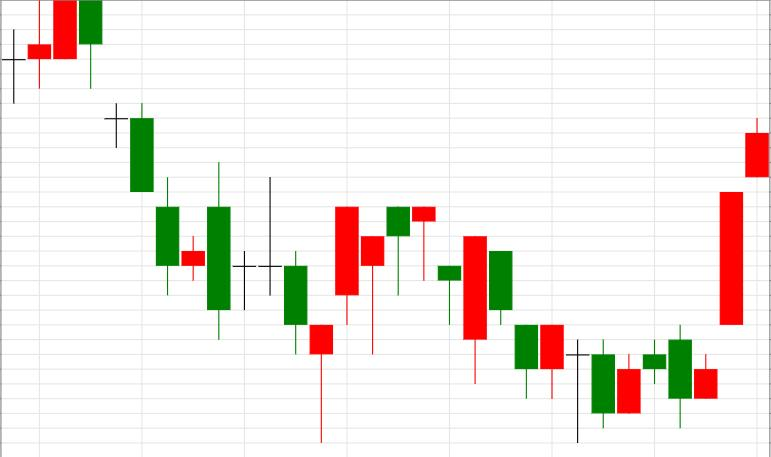hammer_rise: (79, 1, 333, 444)
